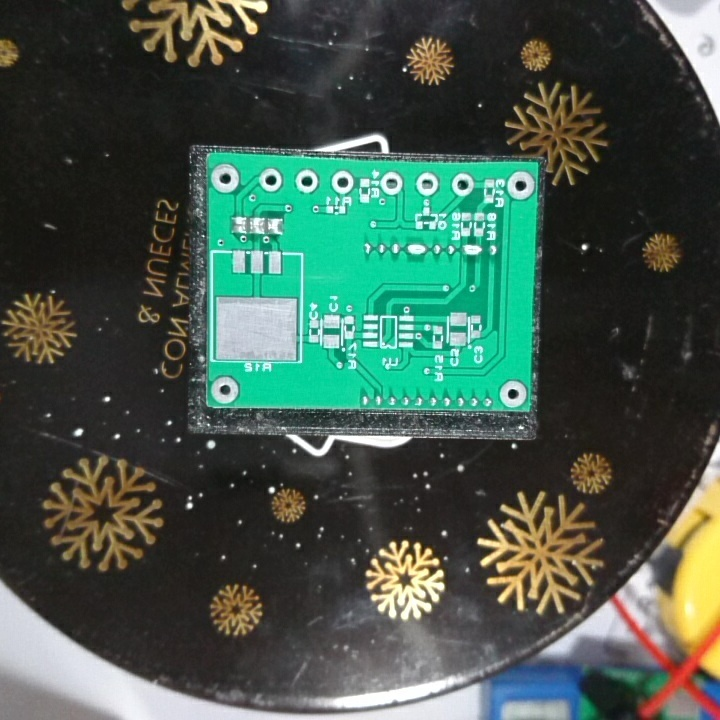F: (503, 168, 537, 204), (209, 163, 243, 196), (209, 374, 243, 407), (496, 377, 529, 411), (450, 170, 478, 201), (294, 167, 322, 196), (256, 166, 284, 195), (414, 171, 442, 198), (328, 169, 355, 197), (379, 170, 404, 197)
P: (404, 239, 430, 263), (458, 240, 485, 262)
